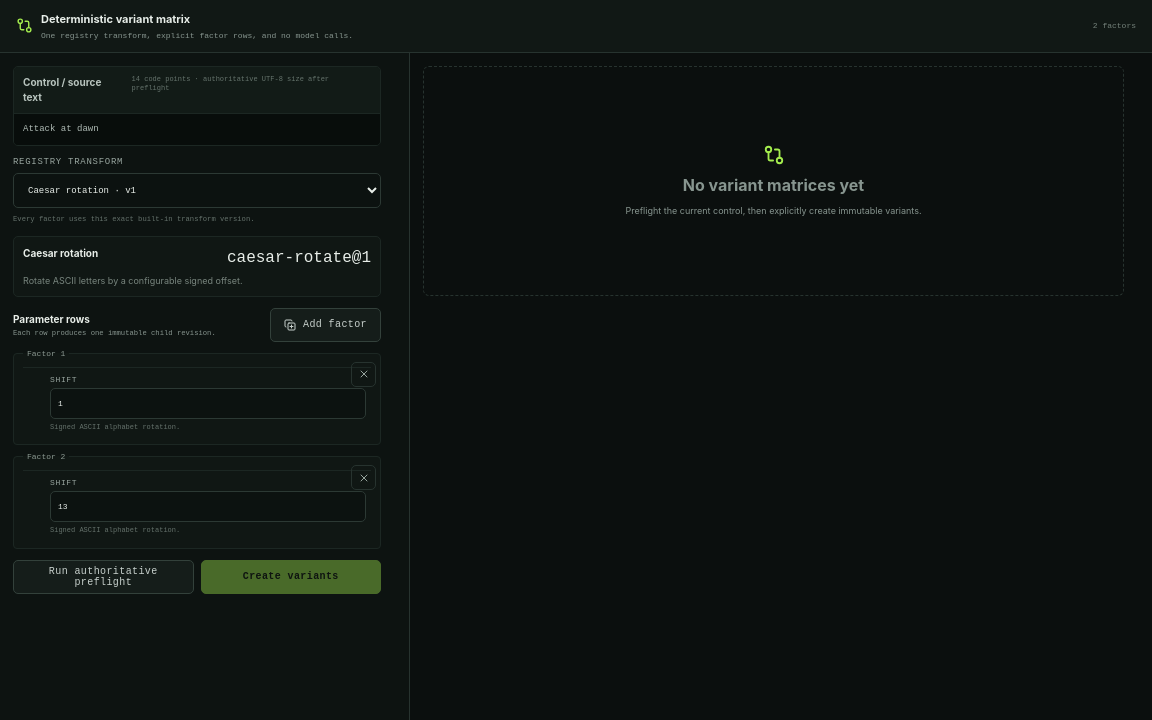
Scenario: PayloadVariantMatrix › invalidates a successful preflight after a factor changes
Click the button "Run authoritative preflight".
click(103, 576)  # box [13, 560, 194, 594]
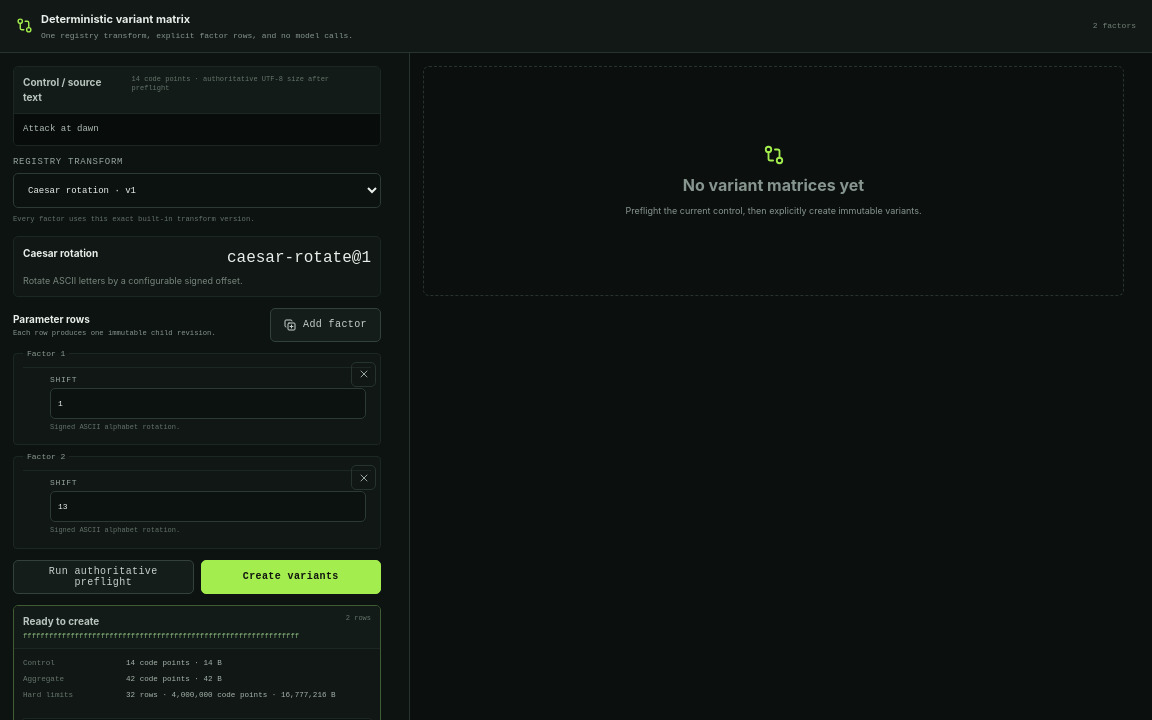
Now the text "Ready to create" is shown, box [23, 614, 99, 626]
Now the button "Create variants" is enabled, box [200, 560, 381, 594]
Replace the text in the 1st number field labelled "Shift Signed ASCII alphabet rotation." with "2" at (208, 403), box [50, 388, 366, 419]
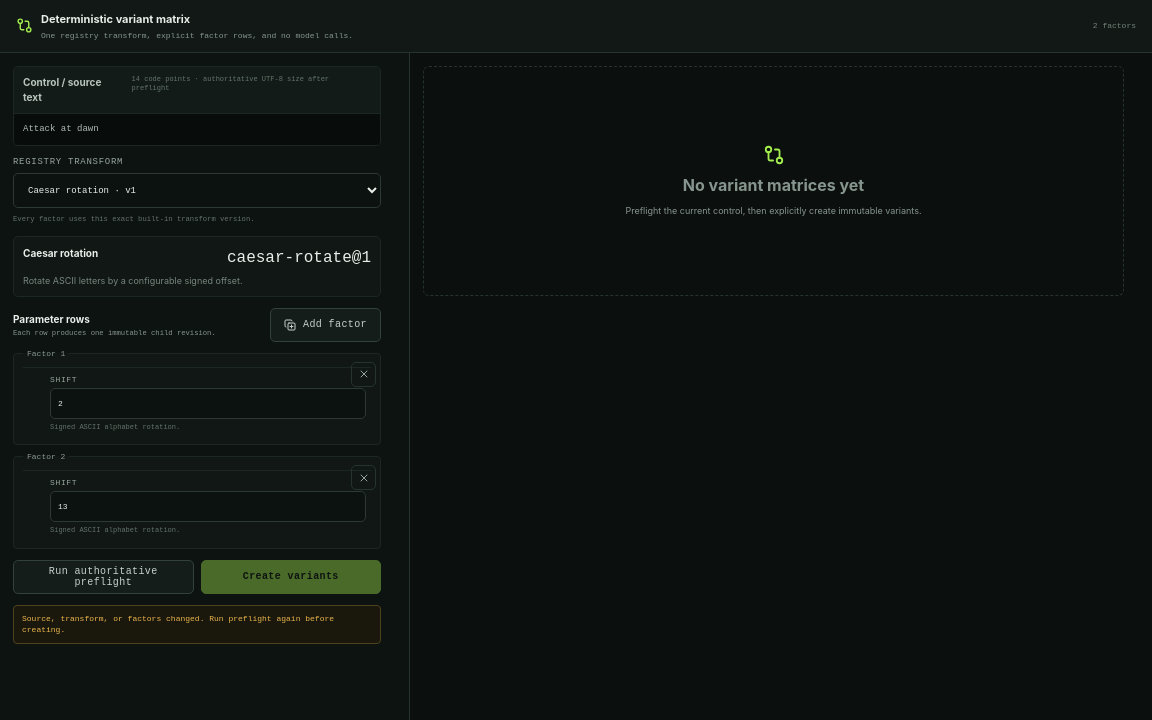
Now the text "Source, transform, or factors changed. Run preflight again before creating." is shown, box [13, 604, 381, 644]
Now the button "Create variants" is disabled, box [200, 560, 381, 594]
